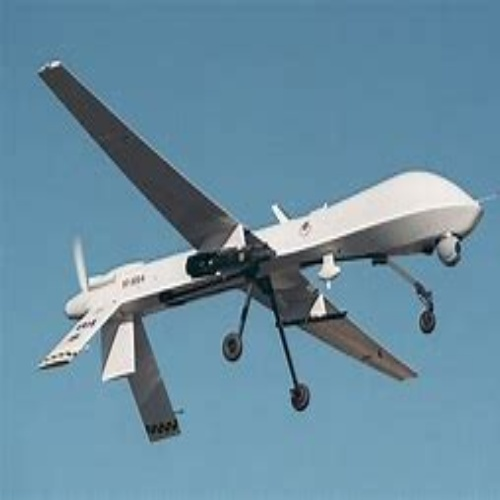uav: (35, 62, 486, 449)
